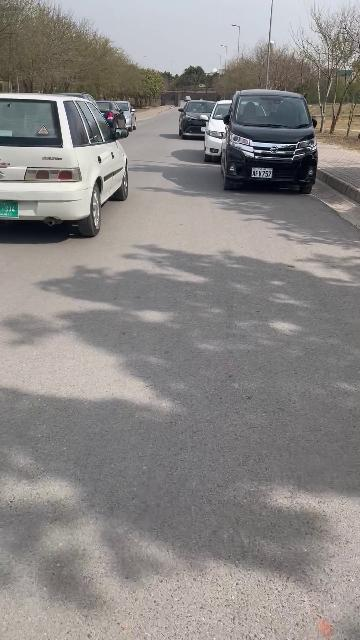plate: (252, 167, 273, 178)
